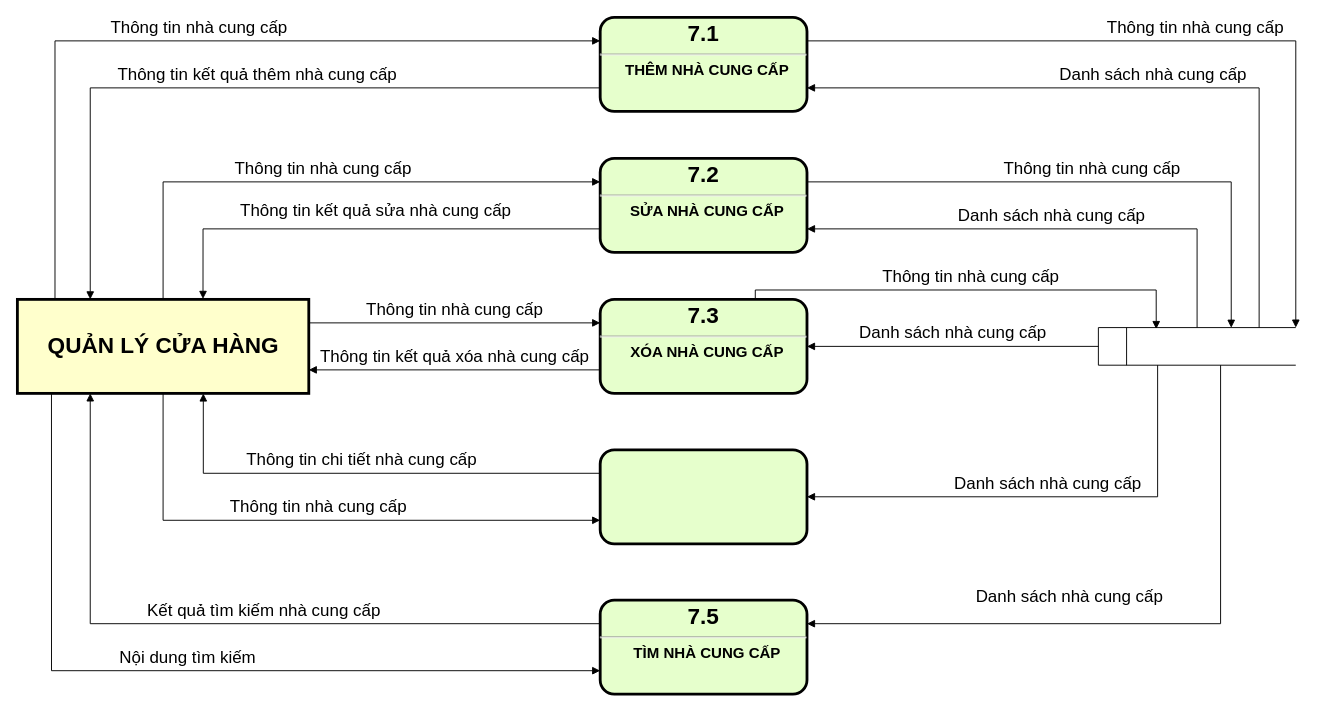
The diagram is 1320 pixels wide and 712 high, and some of its shapes have lost their labels. Each missing label, with the box of its shape:
7.4 XEM CHI TIẾT NHÀ CUNG CẤP: (598, 448, 808, 545)
nhà cung cấp: (1097, 327, 1296, 365)
